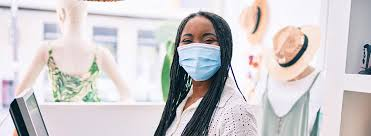with-mask: (170, 10, 238, 92)
